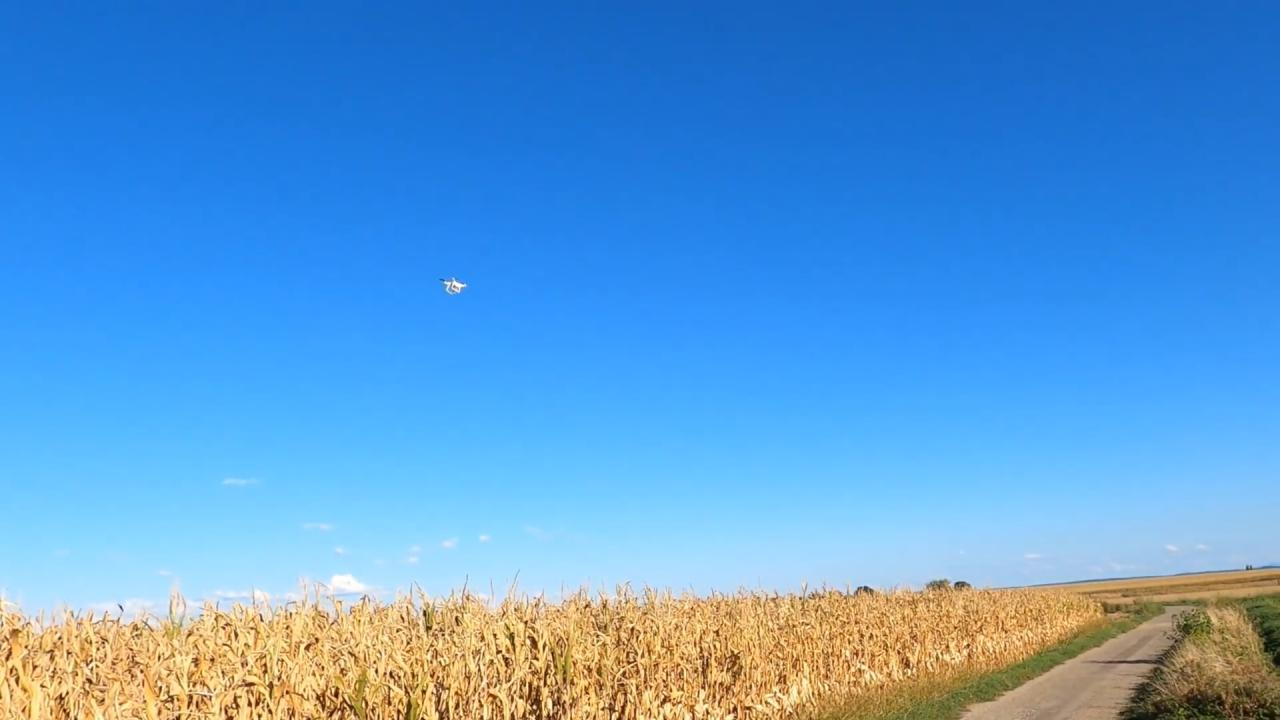Drone: (436, 270, 474, 302)
